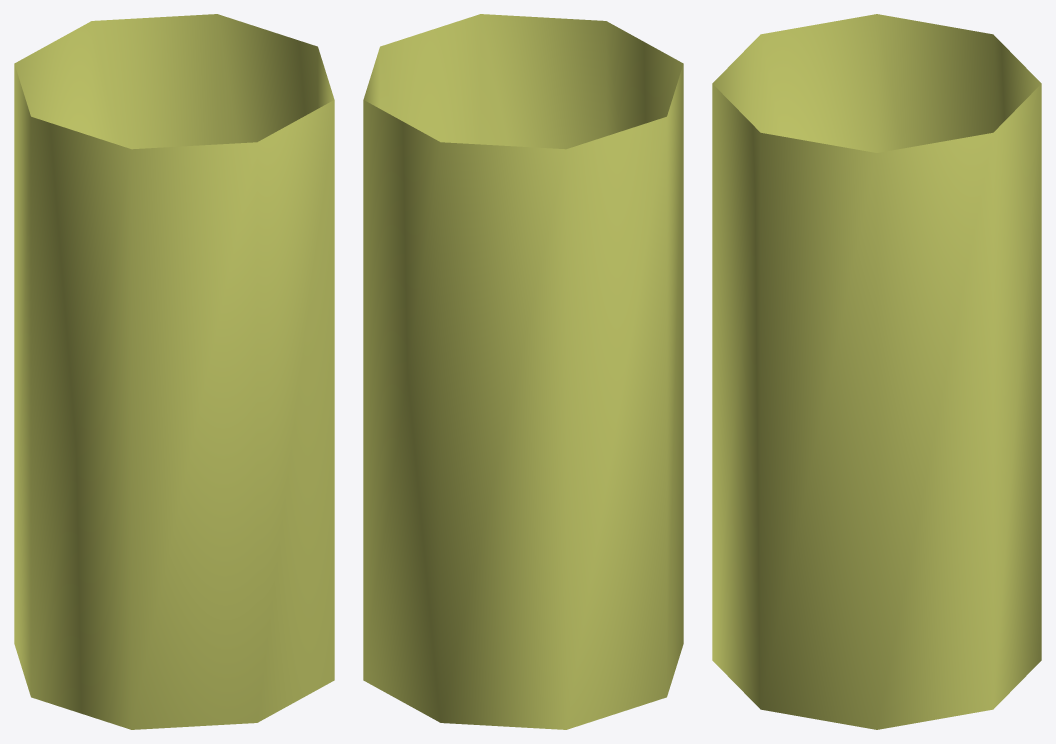
File: SM_9MMShell.fbx
3 renders of one model, left to right at view 1: azimuth 30°, elevation 25°; view 2: azimuth 150°, elevation 25°; view 3: azimuth 270°, elevation 25°, orthographic.
Parts seen in each view (by area): view 1: ShootingRange_Assets; view 2: ShootingRange_Assets; view 3: ShootingRange_Assets.
Part boxes in pixels (bbox=[...]): ShootingRange_Assets: bbox=[14, 14, 334, 729]; ShootingRange_Assets: bbox=[363, 14, 683, 729]; ShootingRange_Assets: bbox=[712, 14, 1041, 729].
Bounding box in the file's own units: 2.35 × 4.54 × 2.35.
